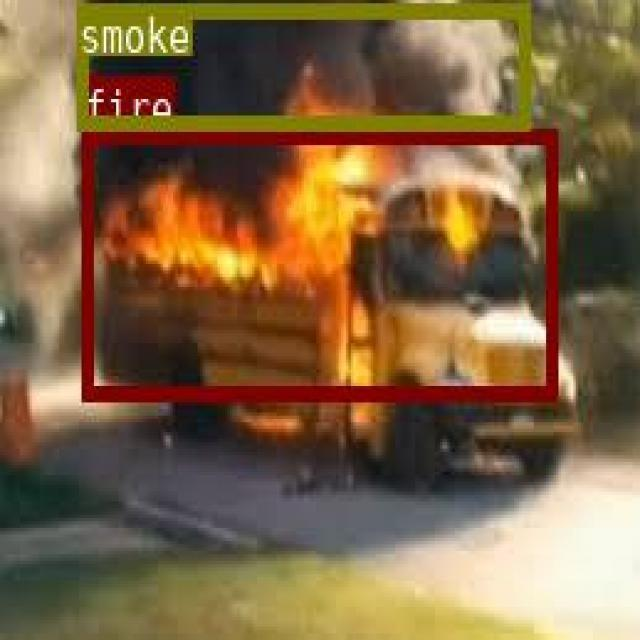fire: (81, 127, 554, 398)
smoke: (75, 2, 528, 126)
